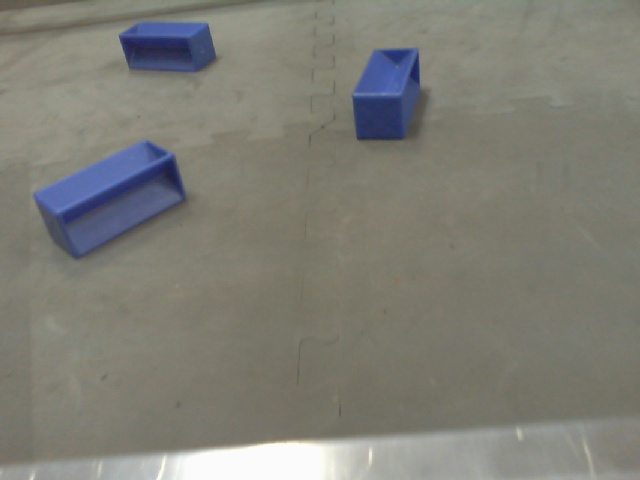BlueSample: (31, 136, 186, 269), (348, 45, 424, 141), (118, 18, 221, 78)
